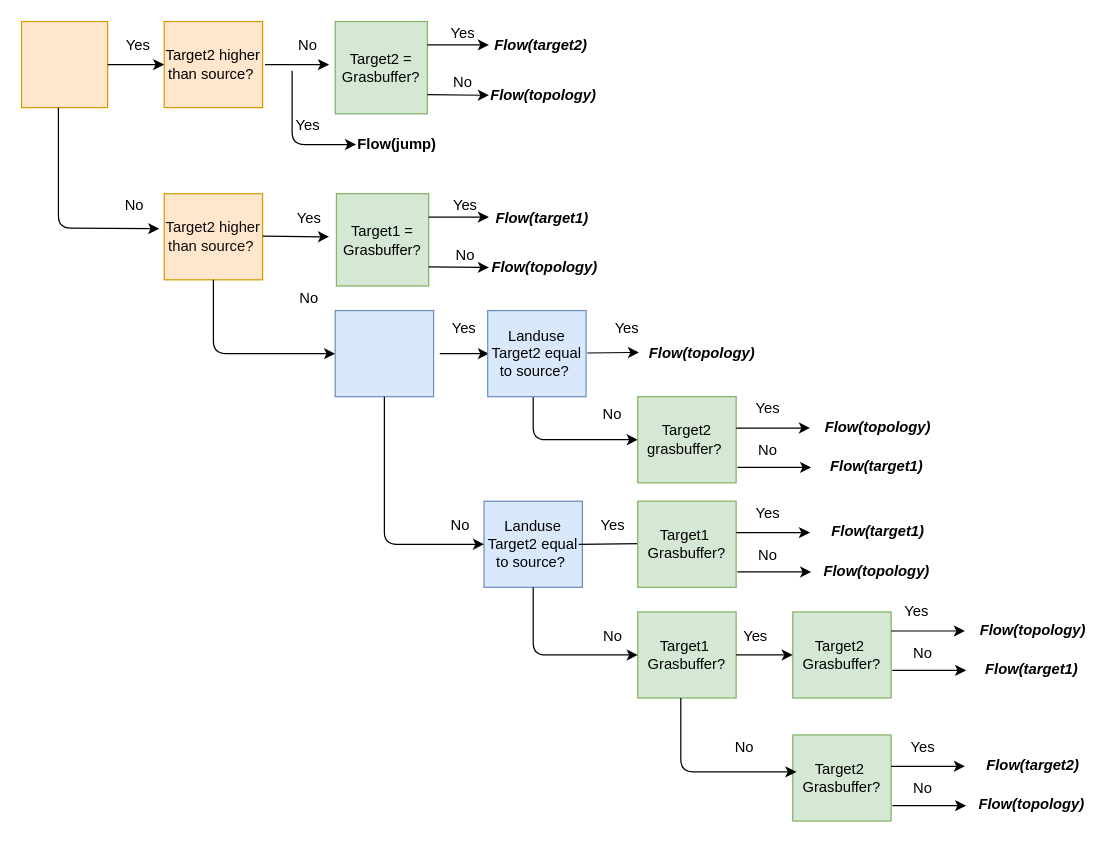
Some shapes in this 1116 by 843 pixel diagram are drawn without their labels. Each missing label, with the centre of its shape:
Landuse Target1 equal to source?: point (384, 353)
Target1 higher than source?: point (64, 64)
